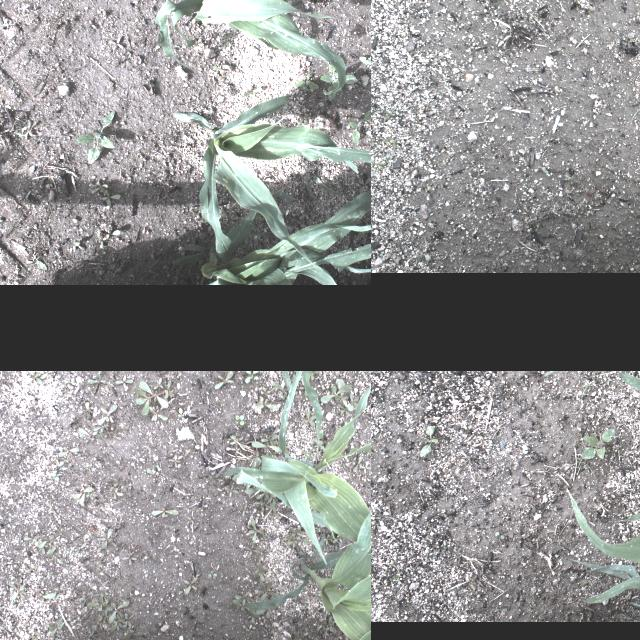crop: (172, 93, 371, 262), (223, 383, 371, 591), (236, 489, 371, 640), (174, 188, 371, 284), (154, 0, 347, 92), (565, 373, 640, 587), (241, 371, 371, 462), (584, 506, 640, 620)
weed: (74, 110, 116, 164), (132, 380, 174, 414), (320, 64, 354, 100), (580, 428, 616, 462), (303, 168, 342, 198), (416, 423, 442, 459), (346, 106, 371, 143), (232, 456, 260, 488), (49, 164, 80, 192), (14, 118, 41, 142), (371, 154, 400, 176), (321, 383, 352, 402), (294, 70, 320, 92), (108, 600, 130, 624), (337, 378, 353, 410), (150, 501, 180, 517), (87, 371, 107, 393), (90, 588, 112, 608), (72, 484, 91, 506), (258, 581, 278, 601), (250, 518, 266, 542), (99, 404, 118, 424), (232, 600, 255, 616), (78, 428, 104, 442), (252, 441, 282, 453), (306, 428, 324, 448), (214, 371, 233, 389), (82, 616, 106, 630), (390, 562, 404, 586), (9, 582, 25, 602), (48, 617, 64, 637), (100, 190, 122, 204), (242, 82, 262, 96), (382, 136, 396, 156), (98, 528, 112, 548), (148, 406, 168, 420), (115, 374, 134, 388), (271, 379, 285, 398), (87, 599, 109, 611), (185, 576, 198, 596), (90, 180, 108, 194), (264, 610, 278, 628), (254, 498, 272, 512), (234, 592, 254, 604), (121, 629, 142, 640), (31, 256, 47, 270), (94, 234, 108, 250), (94, 418, 108, 434), (98, 423, 112, 439), (110, 619, 126, 633), (229, 434, 245, 448), (305, 409, 319, 425), (493, 525, 507, 541), (257, 400, 279, 410), (24, 371, 42, 383), (245, 485, 263, 497), (81, 401, 91, 422), (59, 446, 79, 456), (38, 534, 54, 546), (39, 590, 55, 602), (55, 584, 67, 600), (122, 552, 138, 564), (261, 434, 277, 446), (290, 526, 306, 538), (290, 629, 307, 640), (46, 501, 59, 515), (45, 554, 63, 564), (106, 488, 124, 498), (255, 562, 265, 580), (243, 545, 260, 555), (74, 542, 86, 556), (168, 454, 180, 468), (225, 484, 239, 496), (352, 456, 362, 472), (256, 489, 272, 499), (359, 460, 371, 473), (357, 53, 371, 64), (28, 427, 42, 438), (245, 371, 259, 382), (381, 108, 393, 120), (24, 532, 36, 544), (288, 535, 300, 547), (222, 32, 232, 46), (124, 613, 134, 627), (325, 618, 335, 632), (266, 441, 276, 455), (268, 494, 278, 508), (67, 387, 79, 398), (178, 448, 190, 459), (302, 448, 314, 459), (105, 228, 121, 236), (349, 392, 358, 406), (74, 241, 86, 251), (39, 371, 54, 379), (106, 606, 116, 618), (147, 466, 159, 476), (268, 508, 280, 518), (333, 533, 345, 543), (29, 631, 41, 640), (177, 406, 185, 419), (60, 617, 70, 627), (46, 545, 56, 555), (338, 404, 348, 414), (248, 614, 258, 624), (284, 534, 294, 544), (316, 621, 326, 631), (212, 65, 224, 73), (414, 253, 426, 261), (38, 538, 44, 554), (154, 377, 162, 389), (232, 442, 240, 454), (240, 504, 248, 516), (105, 384, 114, 394), (540, 166, 550, 174), (540, 226, 550, 234), (186, 515, 194, 525), (236, 414, 244, 424), (262, 386, 270, 396), (323, 534, 331, 544), (25, 566, 37, 572), (61, 380, 69, 388), (52, 472, 60, 480), (208, 571, 216, 579), (269, 625, 277, 633), (328, 533, 336, 541), (104, 608, 108, 622), (564, 174, 572, 180), (109, 483, 117, 489), (244, 524, 250, 532), (112, 435, 122, 439), (451, 60, 457, 66), (243, 625, 249, 631), (371, 197, 375, 205), (0, 602, 3, 611), (522, 184, 528, 188), (156, 464, 160, 470), (298, 610, 302, 616), (250, 637, 258, 640), (484, 21, 490, 24), (213, 586, 217, 590), (189, 608, 193, 612), (369, 390, 371, 398), (324, 638, 331, 640), (305, 600, 307, 606), (199, 401, 203, 403)
